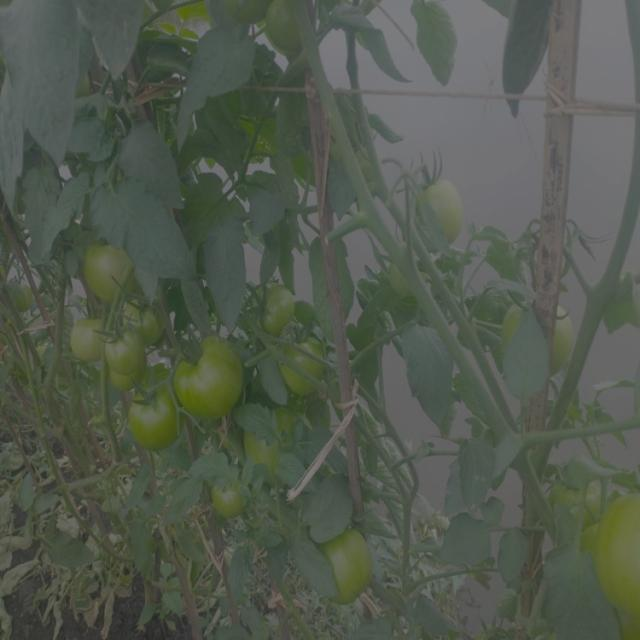tomato: (171, 334, 244, 415), (506, 293, 579, 369), (598, 488, 640, 616), (230, 1, 323, 53), (67, 322, 141, 385), (408, 171, 469, 244), (245, 410, 313, 470), (326, 535, 383, 601), (280, 339, 339, 400), (90, 246, 141, 302), (255, 283, 309, 330), (128, 398, 165, 451), (555, 479, 594, 527), (215, 476, 248, 524), (389, 260, 431, 291), (1, 284, 38, 318), (144, 304, 165, 341)
